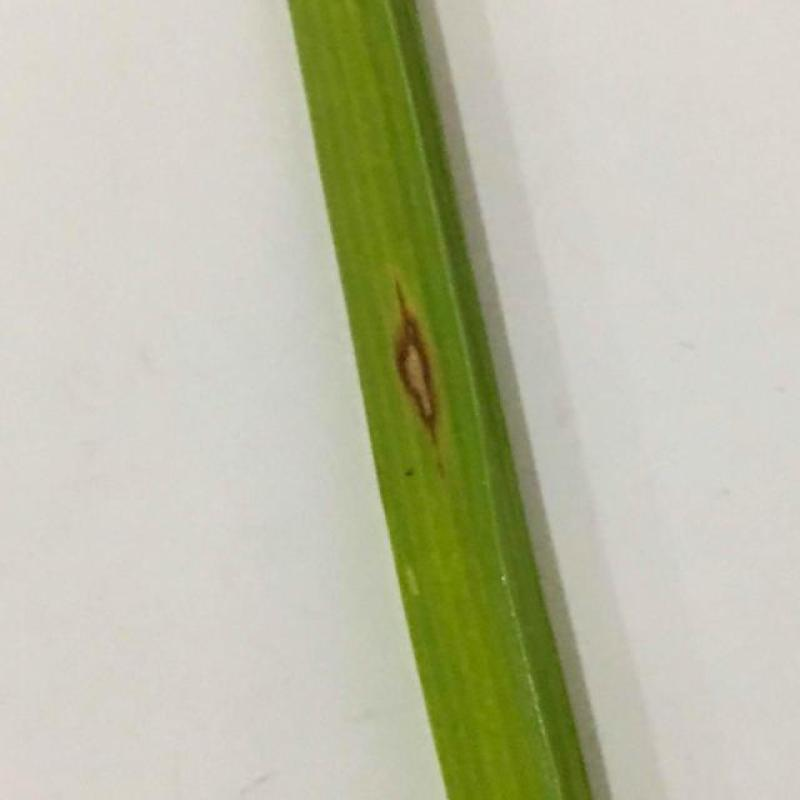Leaf_Blast: (374, 279, 471, 455)
